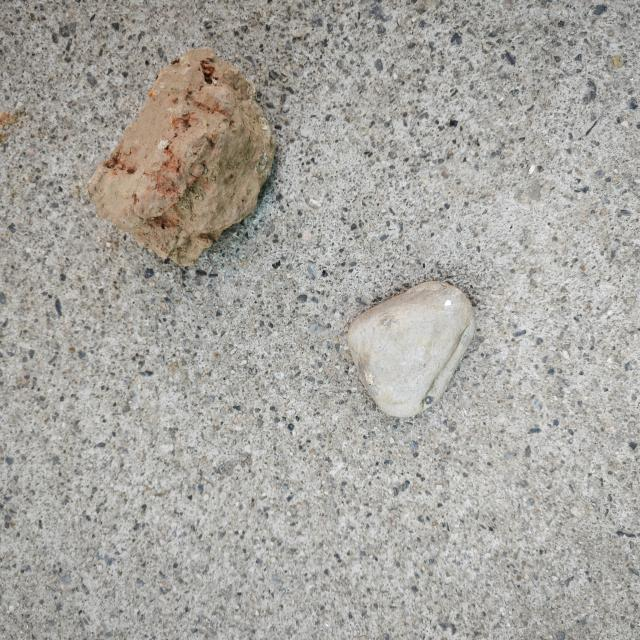-Other waste - brick-: (88, 44, 280, 267)
-Other waste - pebble-: (345, 278, 481, 421)
